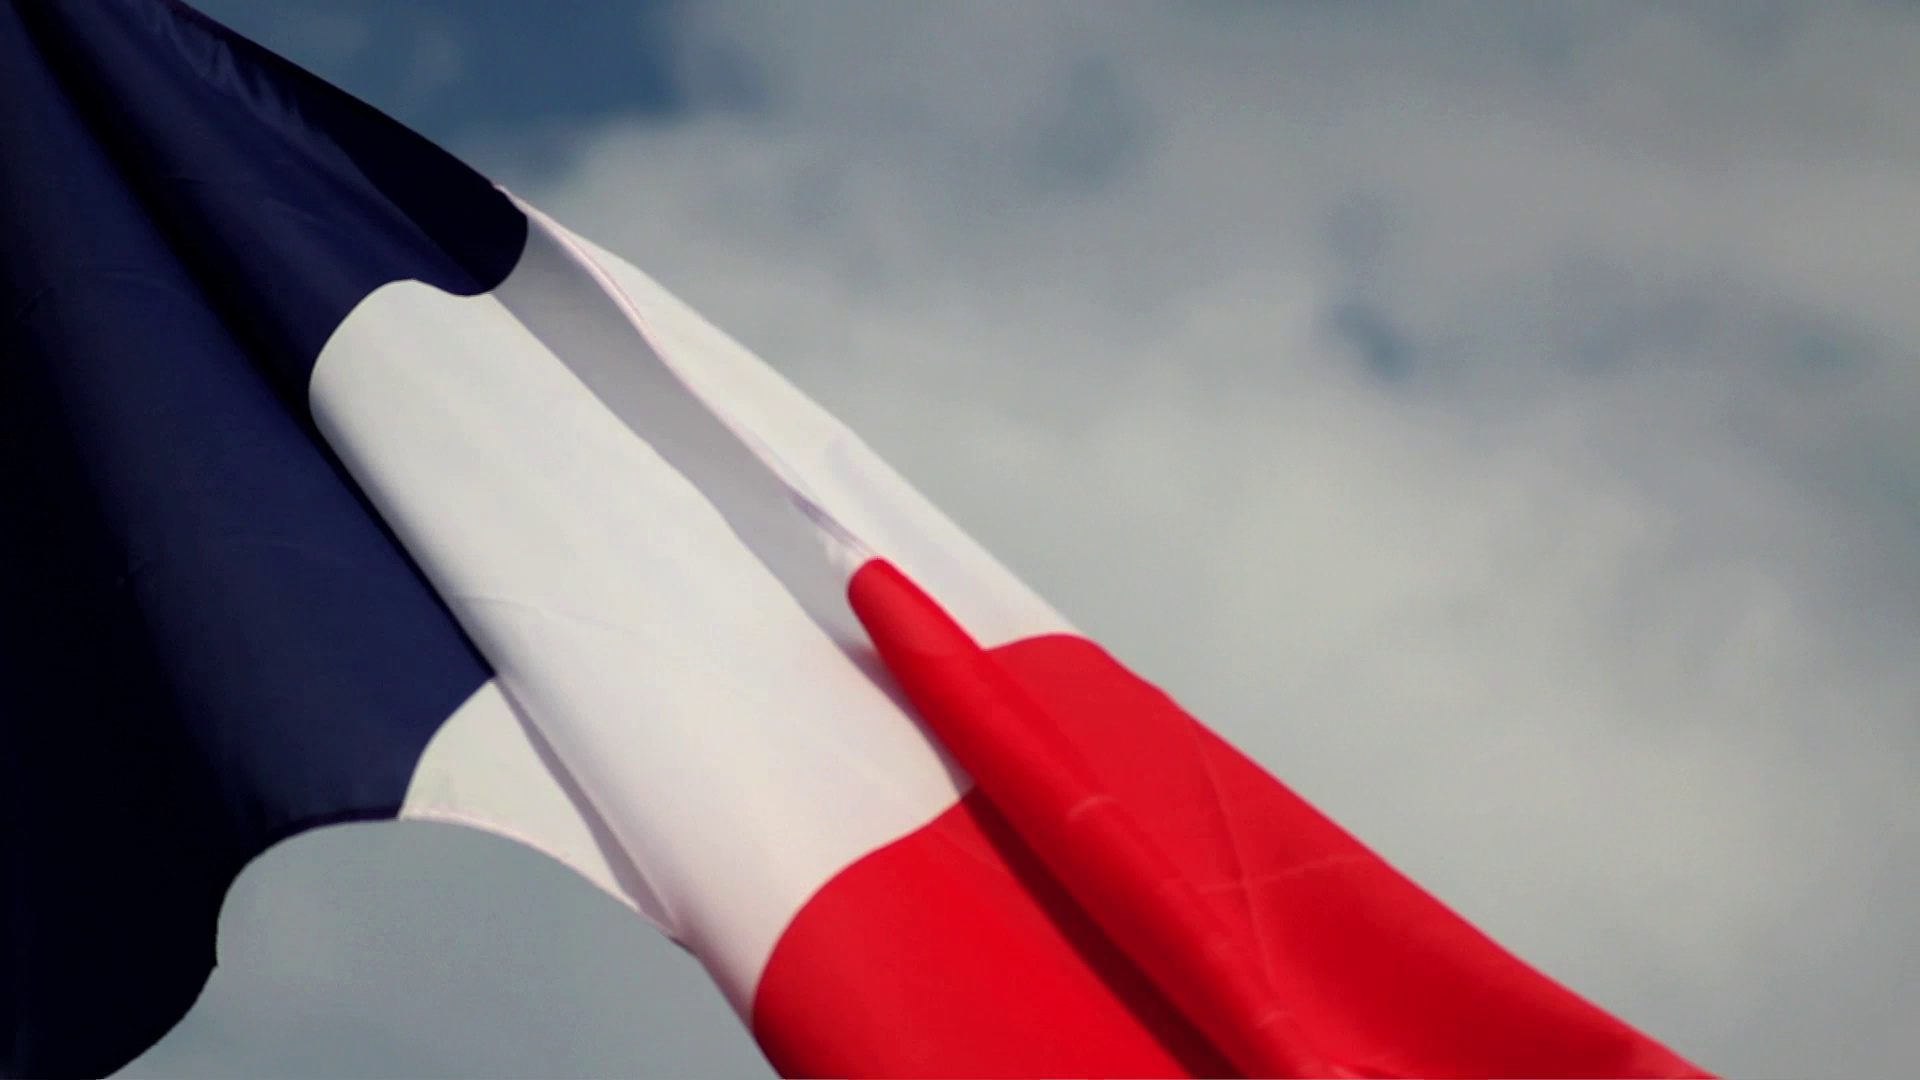French Flag: (1, 1, 1706, 1079)
